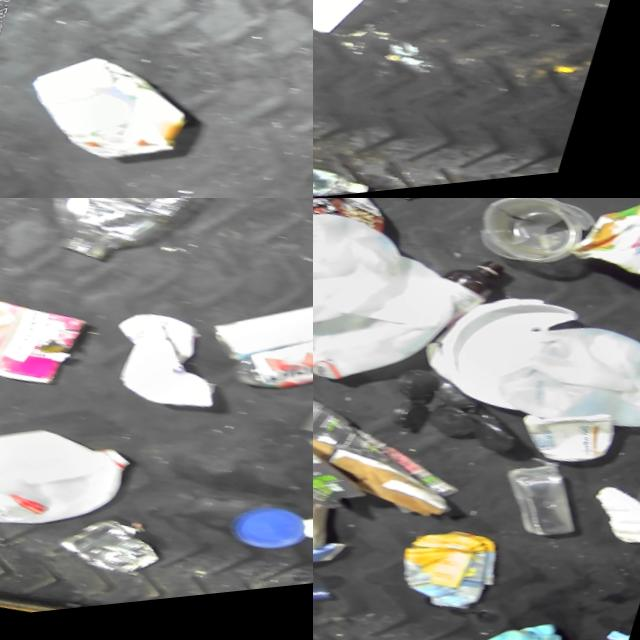can: (203, 269, 313, 409), (59, 511, 172, 596), (286, 379, 313, 495)
milk_jug: (313, 229, 471, 416), (14, 36, 206, 185), (0, 397, 151, 566), (489, 308, 640, 464), (91, 303, 244, 436), (313, 198, 415, 366)
plastic_bottle: (30, 198, 220, 296), (228, 315, 313, 427), (313, 155, 380, 198)
